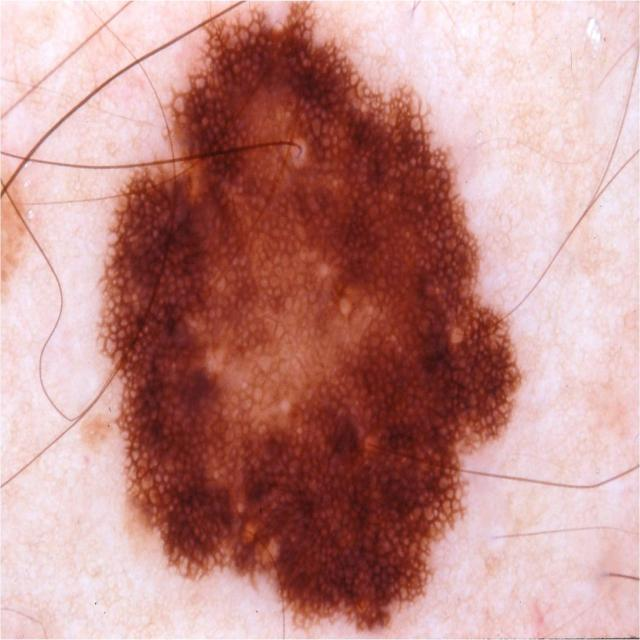Benign: (98, 3, 522, 636)
